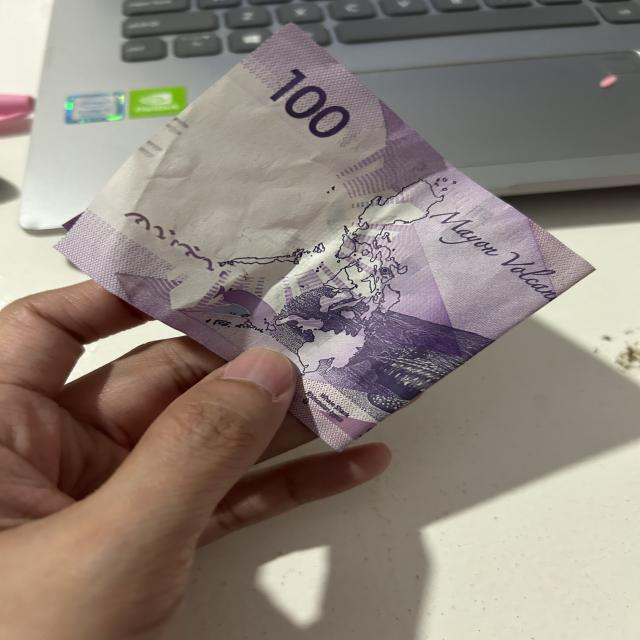100_whale: (363, 341, 462, 412)
100_whale_watermark: (211, 284, 289, 334)
